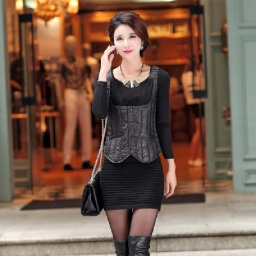face: (105, 13, 159, 75)
